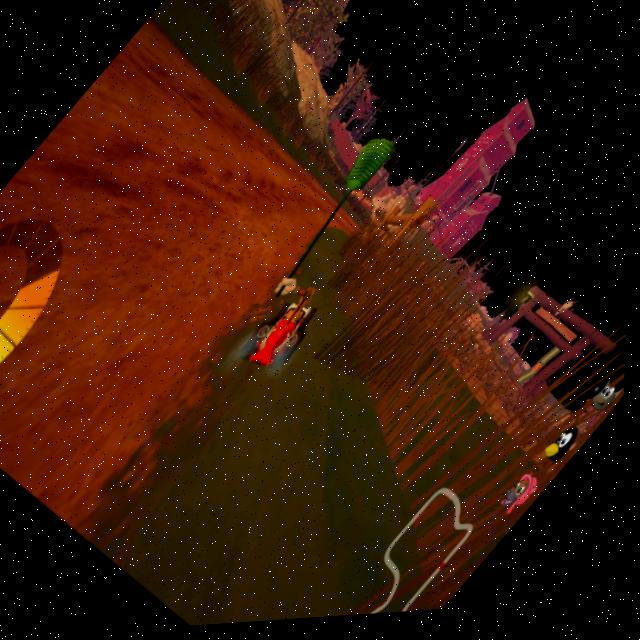off_track: (191, 261, 538, 619)
player_kart: (226, 281, 330, 392)
track: (16, 11, 361, 358)
